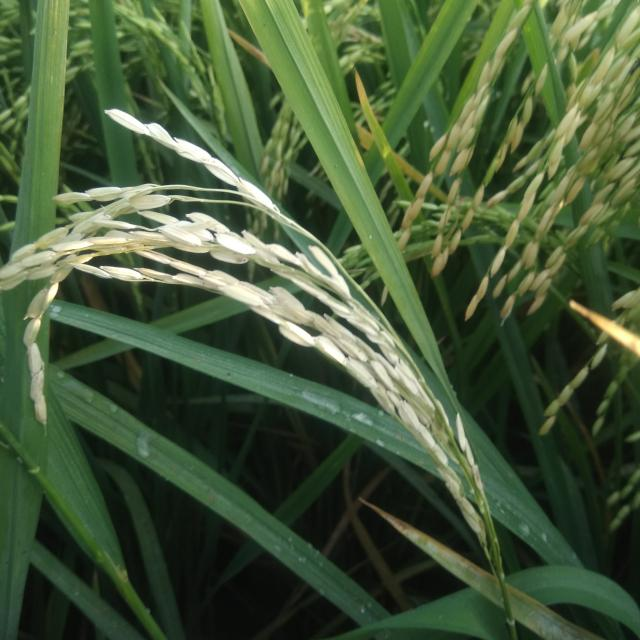Brown spot: (565, 297, 640, 368), (344, 63, 391, 139)
brown plant hopper: (382, 516, 472, 576), (524, 606, 585, 640)
